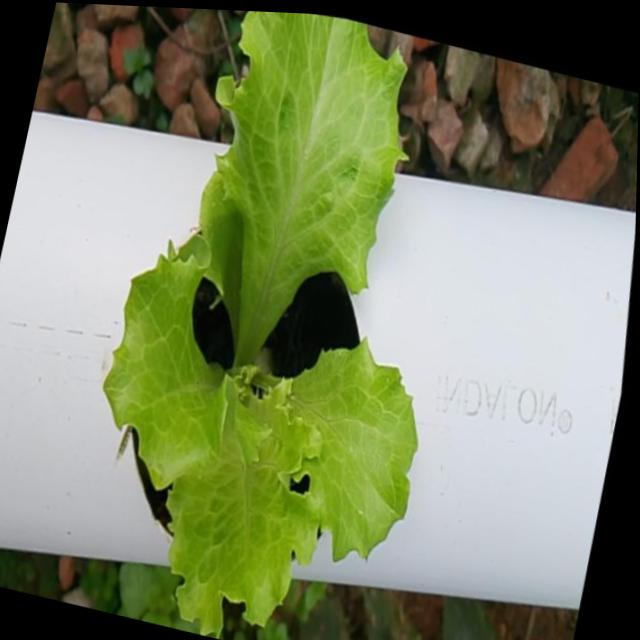Baby: (104, 11, 418, 639)
